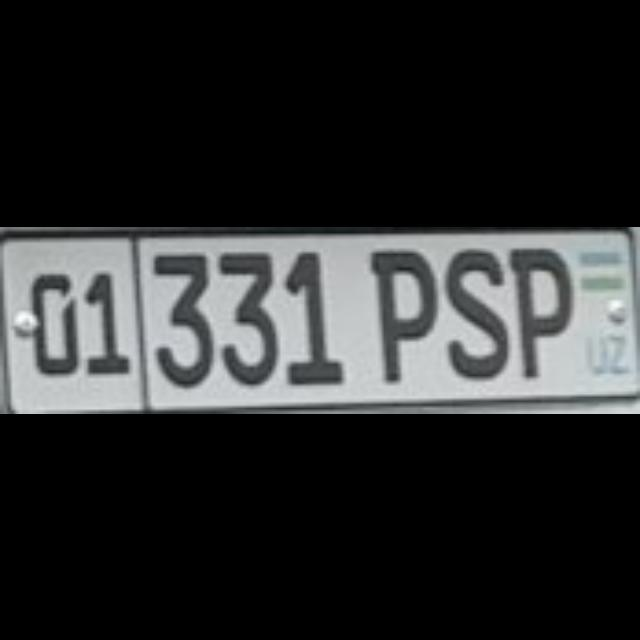0: (26, 271, 70, 374)
1: (280, 248, 338, 380), (77, 266, 125, 370)
3: (144, 248, 210, 384), (214, 248, 272, 384)
P: (368, 244, 434, 380), (508, 244, 566, 374)
S: (442, 245, 504, 377)
